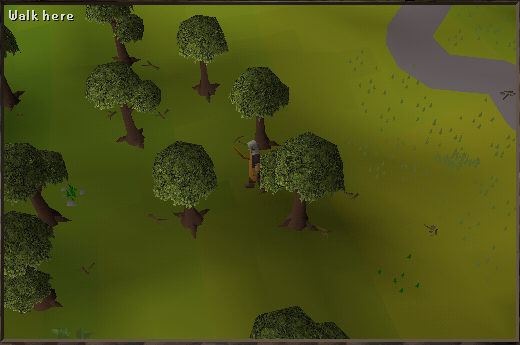Tree: (3, 139, 90, 231), (84, 56, 154, 153), (280, 139, 346, 240), (156, 141, 214, 230), (169, 9, 224, 102), (231, 58, 292, 136)
